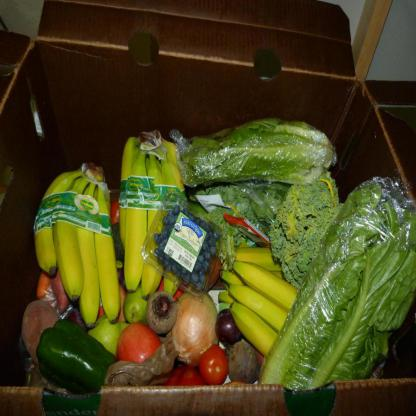Banana: (33, 163, 121, 325), (119, 130, 188, 298), (222, 244, 298, 359), (229, 301, 276, 359)
